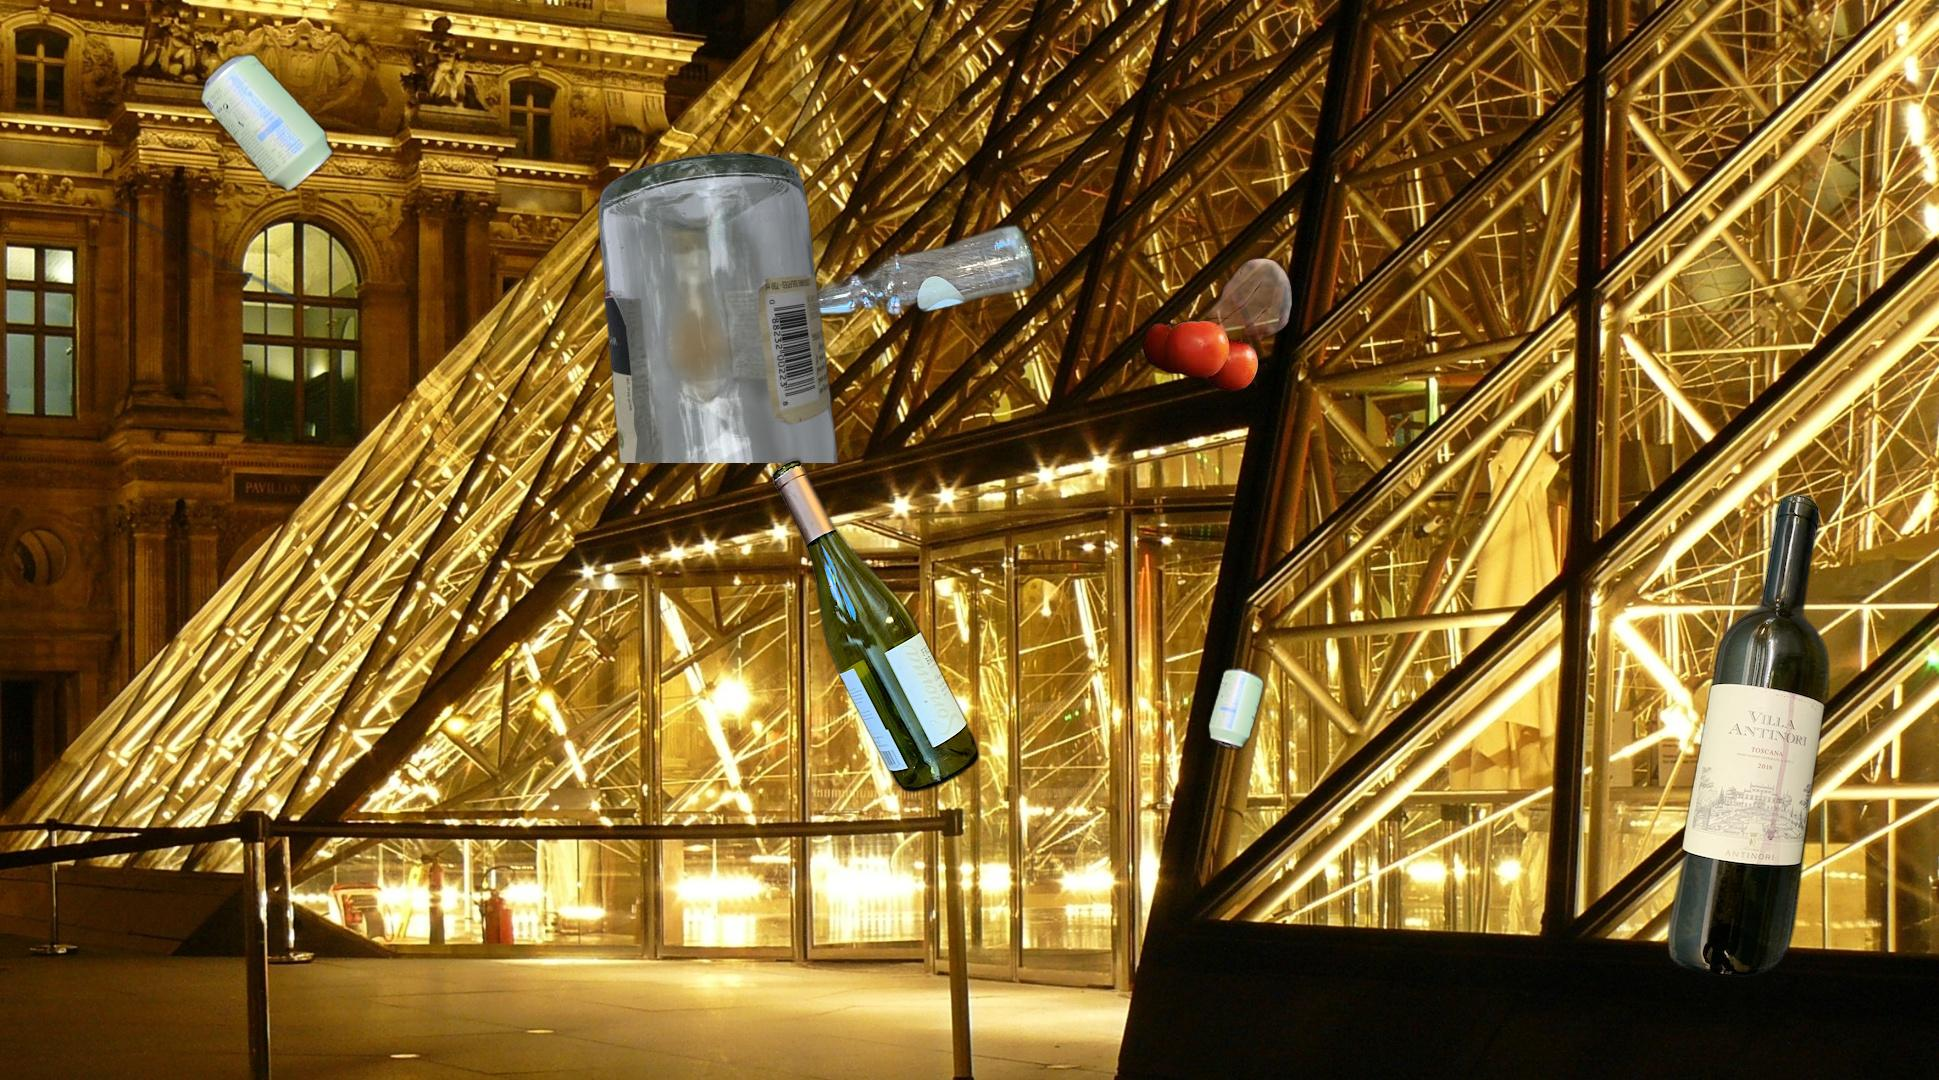biological: (1140, 250, 1305, 394)
glass: (1662, 488, 1833, 982), (593, 149, 842, 463), (767, 454, 983, 798), (785, 219, 1040, 410)
metal-cans: (72, 49, 414, 350), (1204, 662, 1267, 755)
trashbox-cardboard: (1689, 1028, 1939, 1080)
